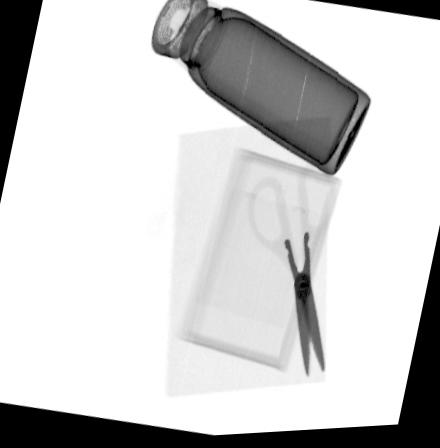Scissors: (247, 170, 331, 382)
